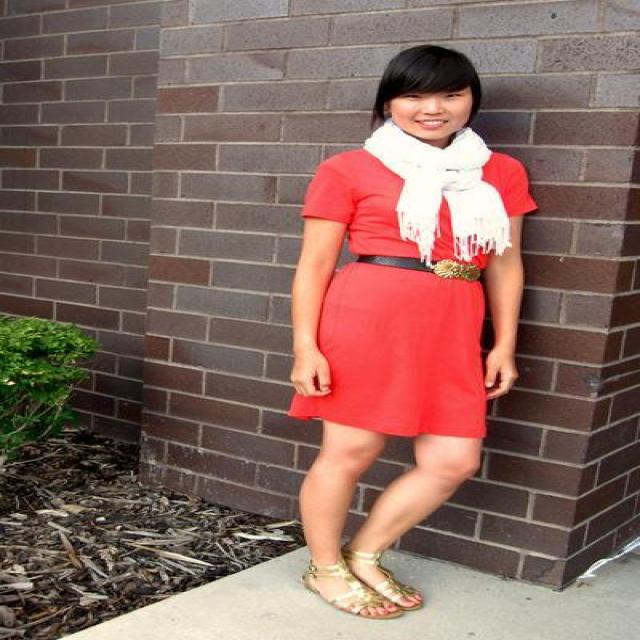dress: (288, 148, 536, 438)
shoe: (341, 586, 400, 618)
